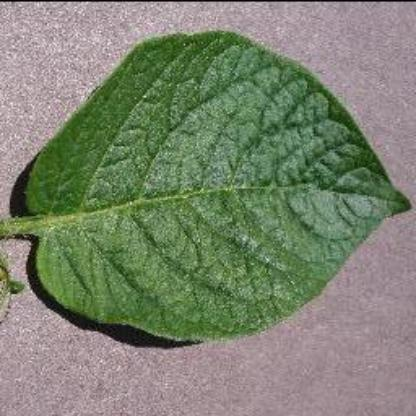Healthy-plant: (12, 26, 402, 382)
